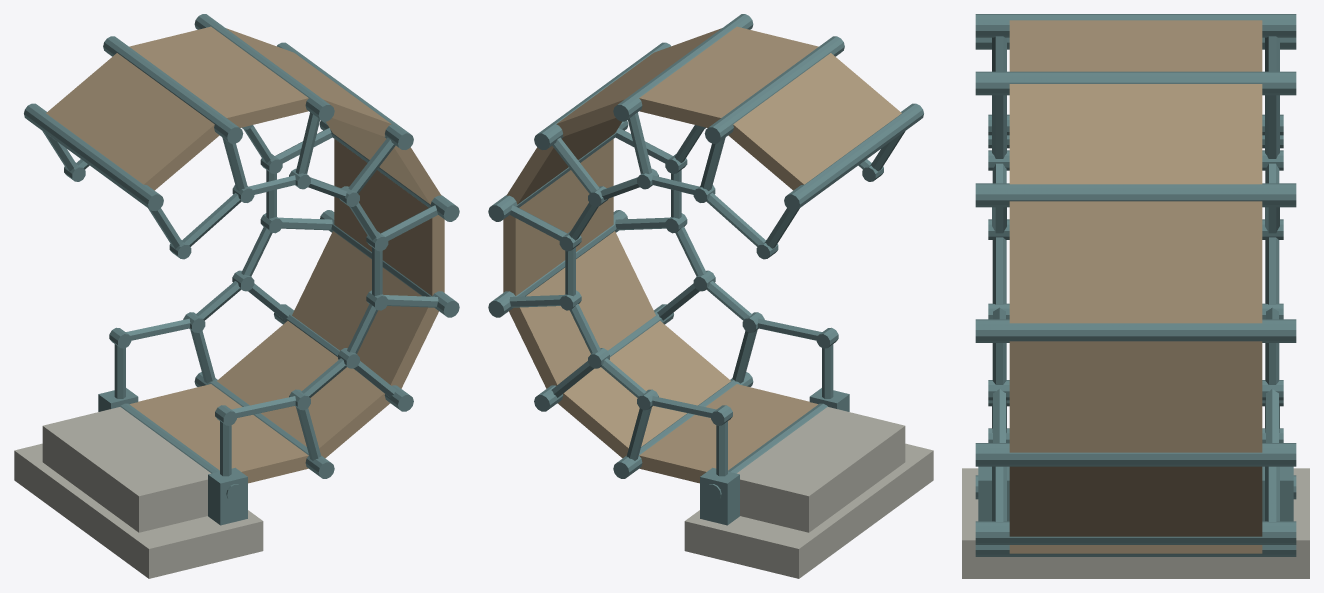
3 renders of one model, left to right at view 1: azimuth 30°, elevation 25°; view 2: azimuth 150°, elevation 25°; view 3: azimuth 270°, elevation 25°, orthographic. The views are drawn at different scales.
Parts seen in each view (by area): view 1: WholeFixedBankApproach, WholeHingedDeckSection_07, WholeGroundedBankFoot, WholeHingedDeckSection_02, WholeHingedDeckSection_01, WholeHingedDeckSection_06, WholeHingedDeckSection_00, WholeHingedDeckSection_03, WholeHingedDeckSection_05, WholeRetainedTransverseDeckPin_08, WholeHingedDeckSection_04, WholeRetainedTransverseDeckPin_07 (+25 smaller); view 2: WholeFixedBankApproach, WholeHingedDeckSection_07, WholeGroundedBankFoot, WholeHingedDeckSection_02, WholeHingedDeckSection_01, WholeHingedDeckSection_06, WholeHingedDeckSection_00, WholeHingedDeckSection_03, WholeHingedDeckSection_05, WholeRetainedTransverseDeckPin_08, WholeHingedDeckSection_04, WholeRetainedTransverseDeckPin_07 (+25 smaller); view 3: WholeHingedDeckSection_04, WholeHingedDeckSection_03, WholeHingedDeckSection_05, WholeHingedDeckSection_02, WholeHingedDeckSection_06, WholeGroundedBankFoot, WholeRetainedTransverseDeckPin_04, WholeRetainedTransverseDeckPin_05, WholeRetainedTransverseDeckPin_03, WholeRetainedTransverseDeckPin_06, WholeRetainedTransverseDeckPin_02, WholeRetainedTransverseDeckPin_07 (+17 smaller).
Part boxes in pixels (x1,y1,x2,y2): WholeFixedBankApproach: (42, 407, 210, 532); WholeHingedDeckSection_07: (46, 53, 219, 190); WholeGroundedBankFoot: (14, 443, 263, 578); WholeHingedDeckSection_02: (292, 231, 438, 388); WholeHingedDeckSection_01: (217, 321, 390, 458); WholeHingedDeckSection_06: (129, 26, 308, 127); WholeHingedDeckSection_00: (129, 384, 308, 483); WholeHingedDeckSection_03: (334, 139, 444, 295); WholeHingedDeckSection_05: (226, 28, 391, 136); WholeRetainedTransverseDeckPin_08: (24, 103, 163, 210); WholeHingedDeckSection_04: (326, 118, 441, 204); WholeRetainedTransverseDeckPin_07: (103, 36, 243, 143); WholeFixedBankApproach: (737, 407, 905, 532); WholeHingedDeckSection_07: (728, 53, 901, 190); WholeGroundedBankFoot: (684, 443, 933, 578); WholeHingedDeckSection_02: (509, 231, 655, 388); WholeHingedDeckSection_01: (557, 321, 730, 458); WholeHingedDeckSection_06: (639, 26, 818, 127); WholeHingedDeckSection_00: (639, 384, 818, 483); WholeHingedDeckSection_03: (503, 139, 613, 295); WholeHingedDeckSection_05: (556, 28, 721, 136); WholeRetainedTransverseDeckPin_08: (784, 103, 923, 210); WholeHingedDeckSection_04: (506, 118, 621, 204); WholeRetainedTransverseDeckPin_07: (704, 36, 844, 143); WholeHingedDeckSection_04: (1009, 201, 1262, 323); WholeHingedDeckSection_03: (1009, 341, 1262, 452); WholeHingedDeckSection_05: (1009, 84, 1262, 184); WholeHingedDeckSection_02: (1009, 466, 1262, 536); WholeHingedDeckSection_06: (1009, 20, 1262, 71); WholeGroundedBankFoot: (962, 468, 1309, 578); WholeRetainedTransverseDeckPin_04: (975, 319, 1296, 342); WholeRetainedTransverseDeckPin_05: (975, 183, 1296, 207); WholeRetainedTransverseDeckPin_03: (975, 443, 1296, 466); WholeRetainedTransverseDeckPin_06: (975, 71, 1296, 95); WholeRetainedTransverseDeckPin_02: (975, 521, 1296, 544); WholeRetainedTransverseDeckPin_07: (975, 14, 1296, 37).
Bounding box in the file's own units: 2.76 × 3.56 × 2.04.
